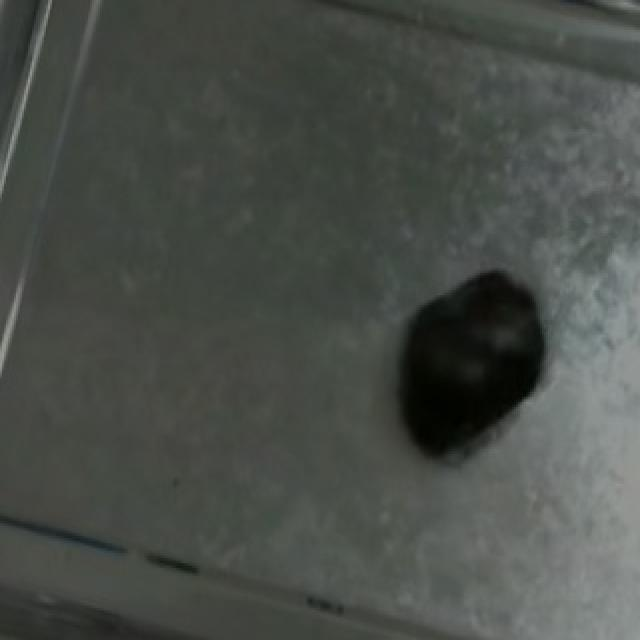Fruit: (390, 253, 560, 459)
